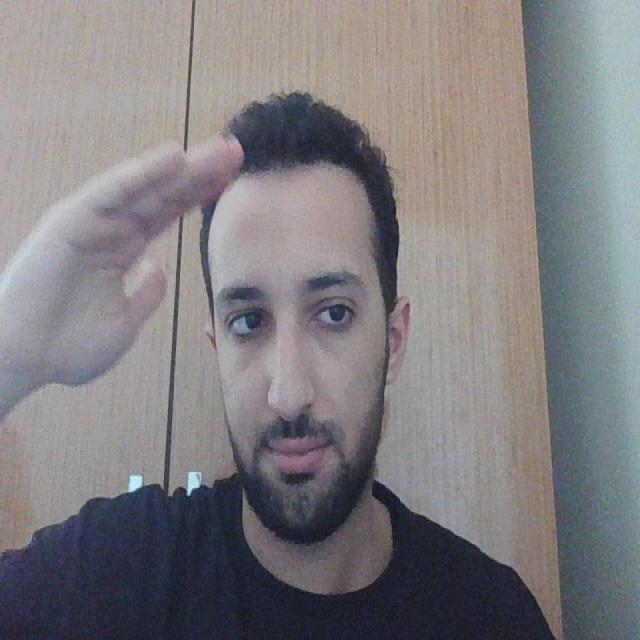Merhaba: (7, 108, 251, 442)
